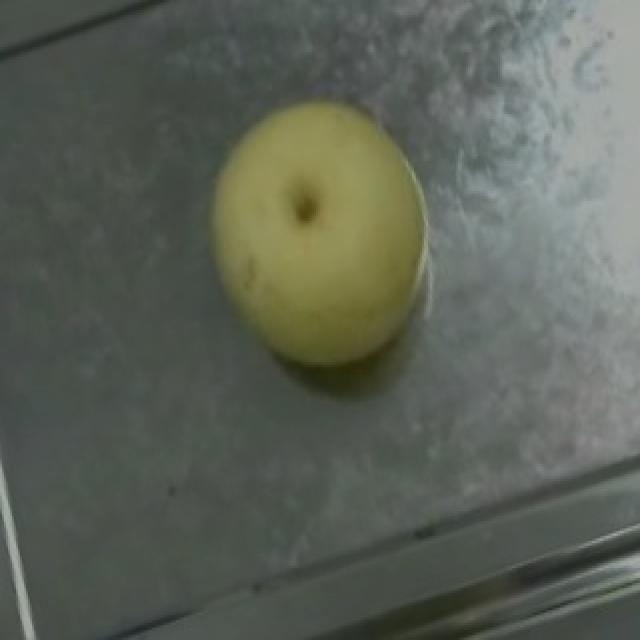Fruit: (160, 59, 476, 412)
